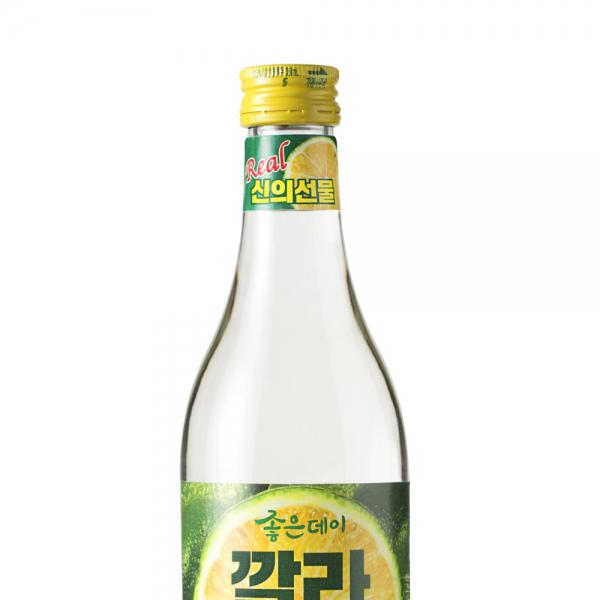soju: (172, 59, 415, 600)
